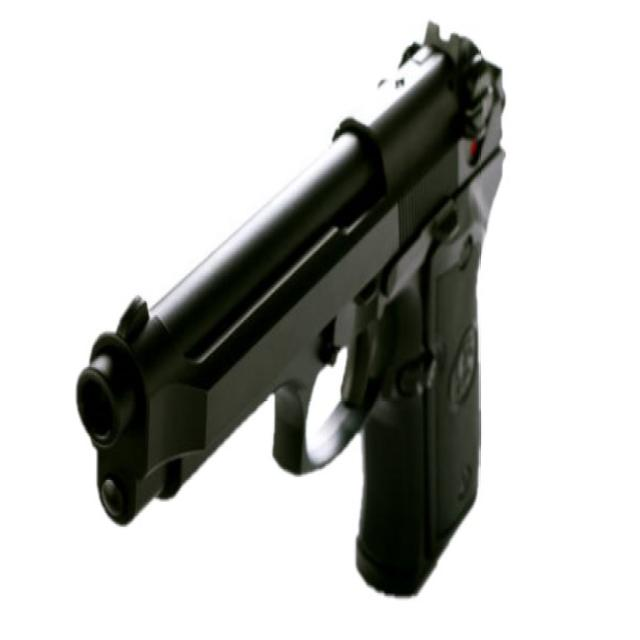pistol: (72, 16, 513, 599)
